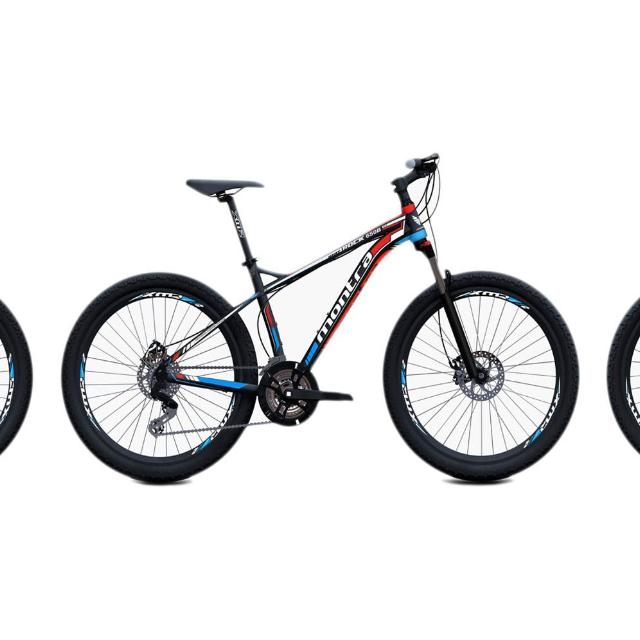obstacle: (64, 124, 586, 524), (599, 124, 640, 524), (0, 124, 28, 524)
